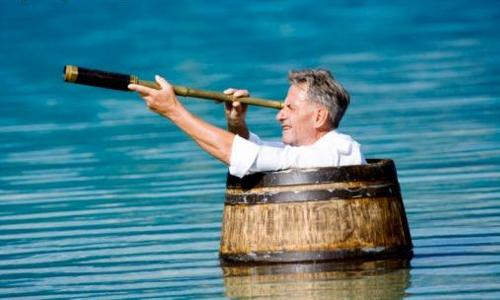person: (127, 69, 375, 177)
